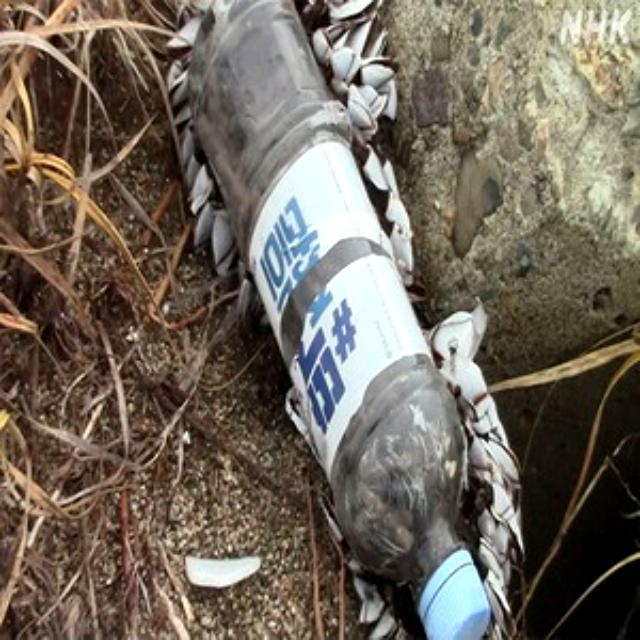Plastic: (194, 0, 496, 640)
